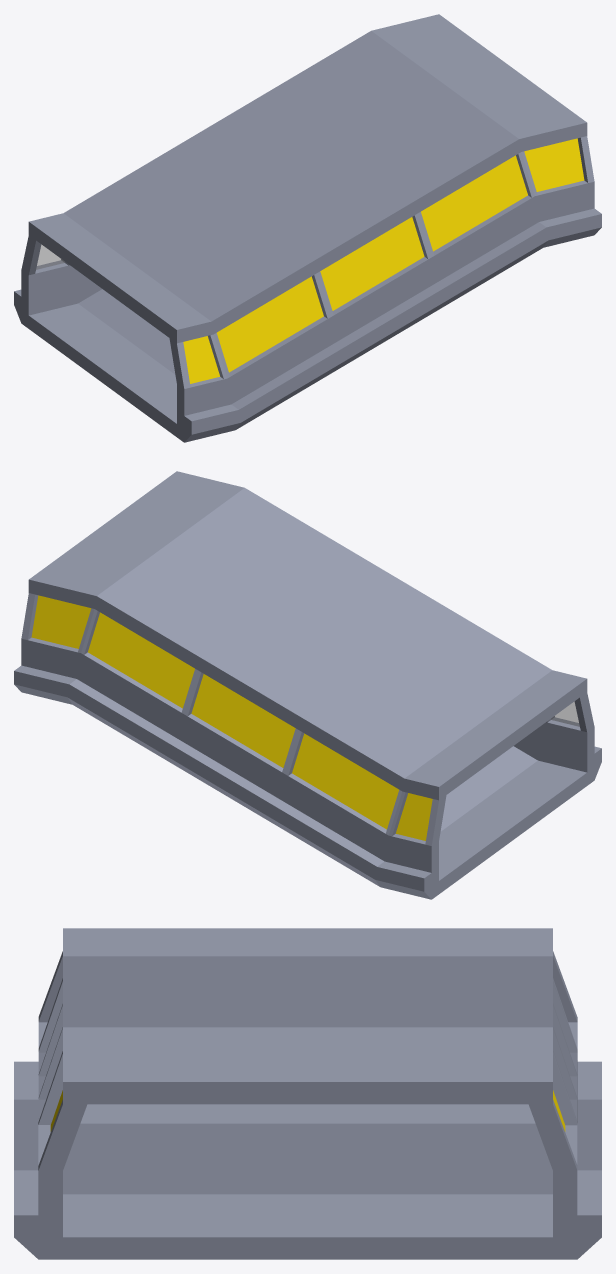
File: building_tunnel-ramp_v01.gltf
3 views of the same model, one above another, from view 1: azimuth 30°, elevation 25°; view 2: azimuth 150°, elevation 25°; view 3: azimuth 270°, elevation 25° (orthographic). The views are drawn at different scales.
Parts seen in each view (by area): view 1: massing, group_0.004, group_0.005, group_0, group_0.001, group_0.003; view 2: massing, group_0.006, group_0.008, group_0.009, group_0.007, group_0.010; view 3: massing.
Boxes of the visible parts, bbox=[...] form: massing: bbox=[14, 14, 601, 442]; group_0.004: bbox=[217, 276, 323, 372]; group_0.005: bbox=[421, 155, 527, 251]; group_0: bbox=[320, 217, 424, 310]; group_0.001: bbox=[524, 138, 584, 191]; group_0.003: bbox=[183, 336, 219, 383]; massing: bbox=[14, 471, 601, 899]; group_0.006: bbox=[292, 733, 398, 829]; group_0.008: bbox=[88, 612, 194, 708]; group_0.009: bbox=[191, 674, 295, 767]; group_0.007: bbox=[31, 595, 91, 648]; group_0.010: bbox=[396, 793, 432, 840]; massing: bbox=[14, 928, 601, 1259].
Size of what is drawn, in the model's own units: 16 by 8 by 12.
